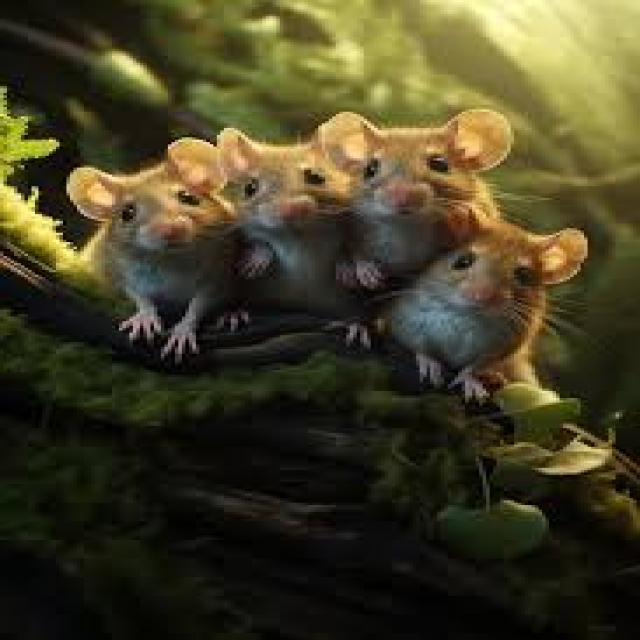rat: (63, 137, 248, 361), (370, 221, 588, 403), (210, 126, 371, 349)
